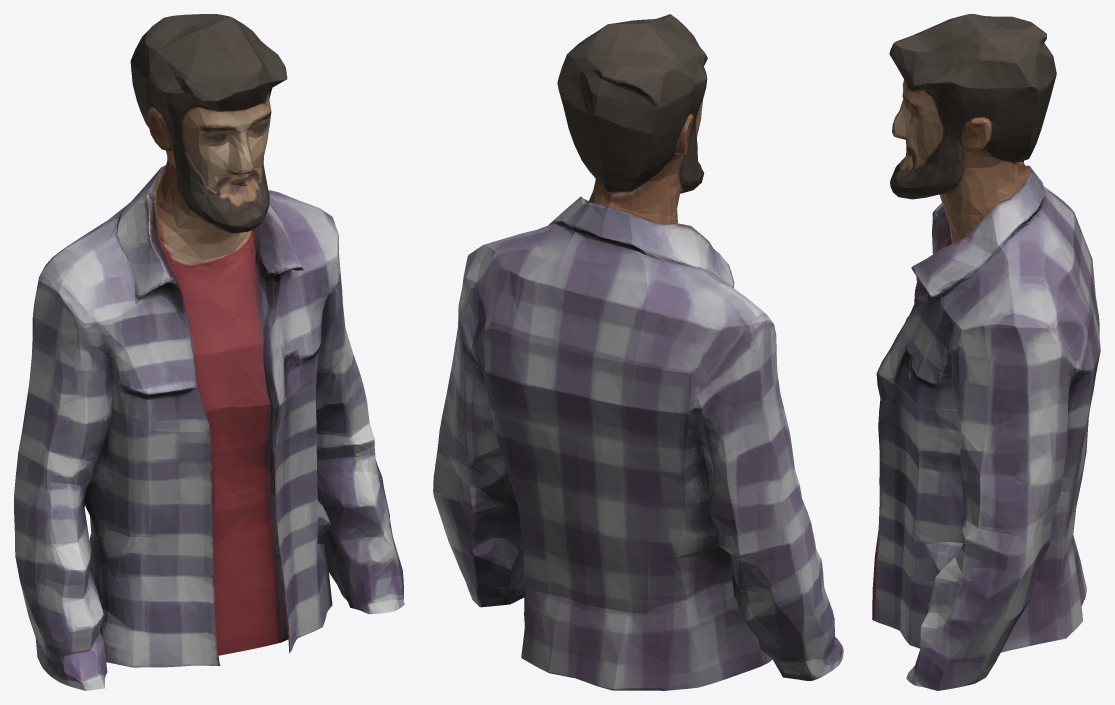
The picture shows the model from 3 angles, left to right: view 1: azimuth 30°, elevation 25°; view 2: azimuth 150°, elevation 25°; view 3: azimuth 270°, elevation 25°; orthographic projection. The views are drawn at different scales.
Visible parts, largest first — view 1: geometry_0; view 2: geometry_0; view 3: geometry_0.
Boxes of the visible parts, left/top/right/bottom form: geometry_0: left=14, top=14, right=404, bottom=690; geometry_0: left=433, top=14, right=843, bottom=690; geometry_0: left=872, top=14, right=1100, bottom=690.
Bounding box in the file's own units: 0.5218 × 0.8284 × 0.2917.
Materials: 1 (1 with a texture image).
